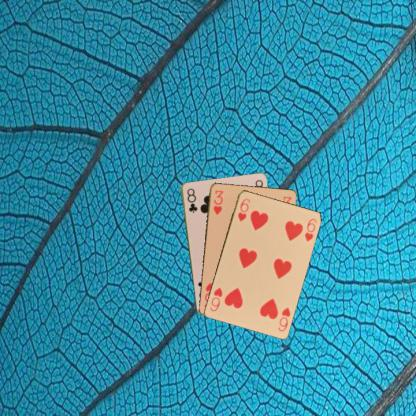3h: (211, 187, 224, 216)
6h: (235, 196, 251, 222), (276, 305, 291, 332)
8c: (184, 185, 199, 214)
